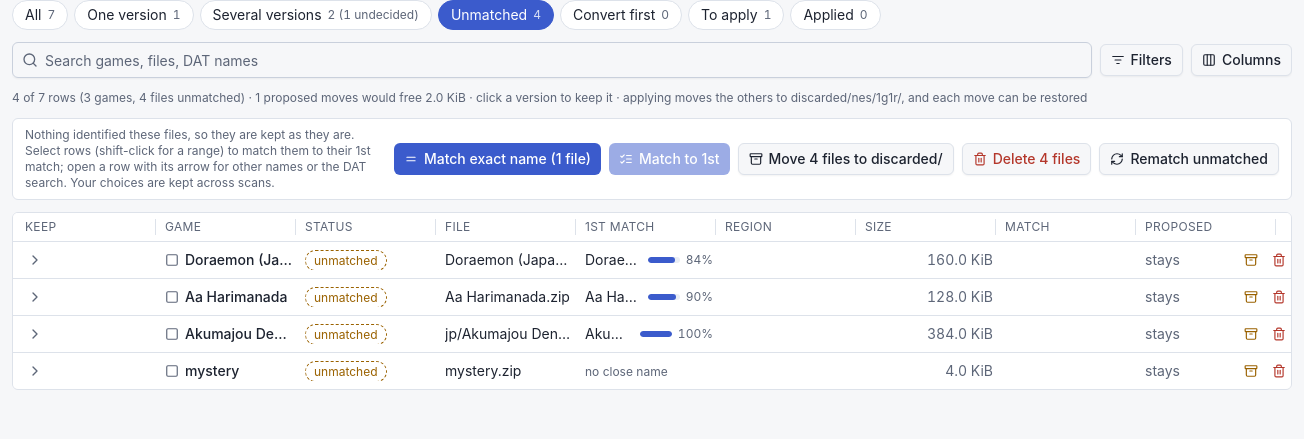
Test: match exact name takes the files whose name is their 1st match, the selected ones first
This screenshot has width=1304, height=439.
Later steps or results of the test are not shown.
Expected: the button "Match exact name (1 file)" is shown, [394,143,601,175]
What coordinates should you click on to do the following:
click the button with aria-label "Select Doraemon (Japan) (Rev 1)"
I would click on:
 (649, 260)
Its box is [25,250,1273,270].
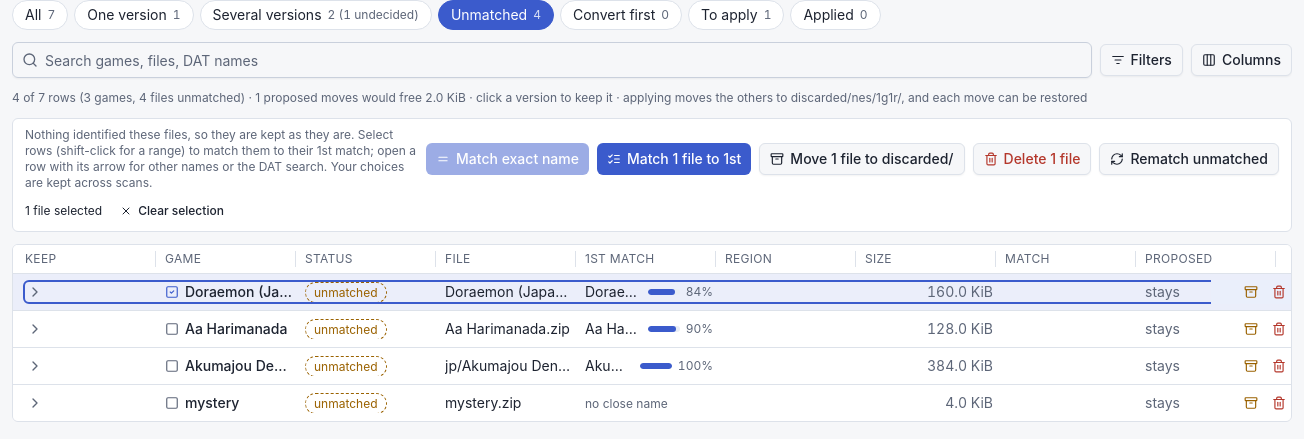
Expected: the button "Match exact name" is disabled, [426,143,589,175]
